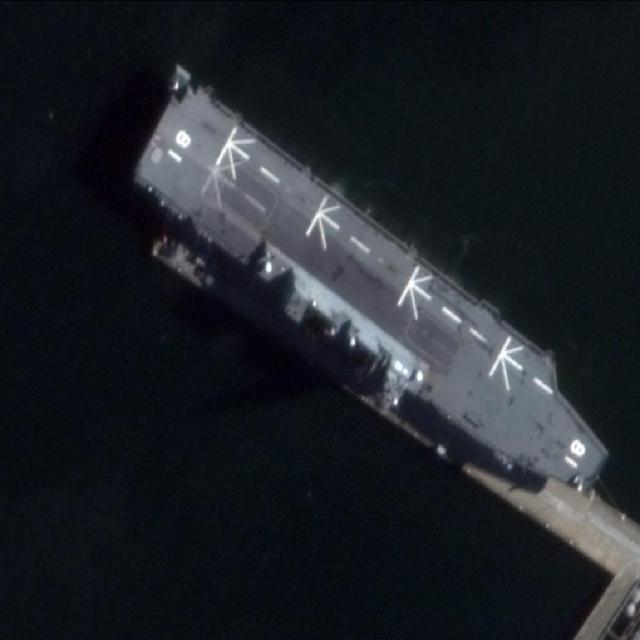Destroyer: (108, 68, 637, 515)
